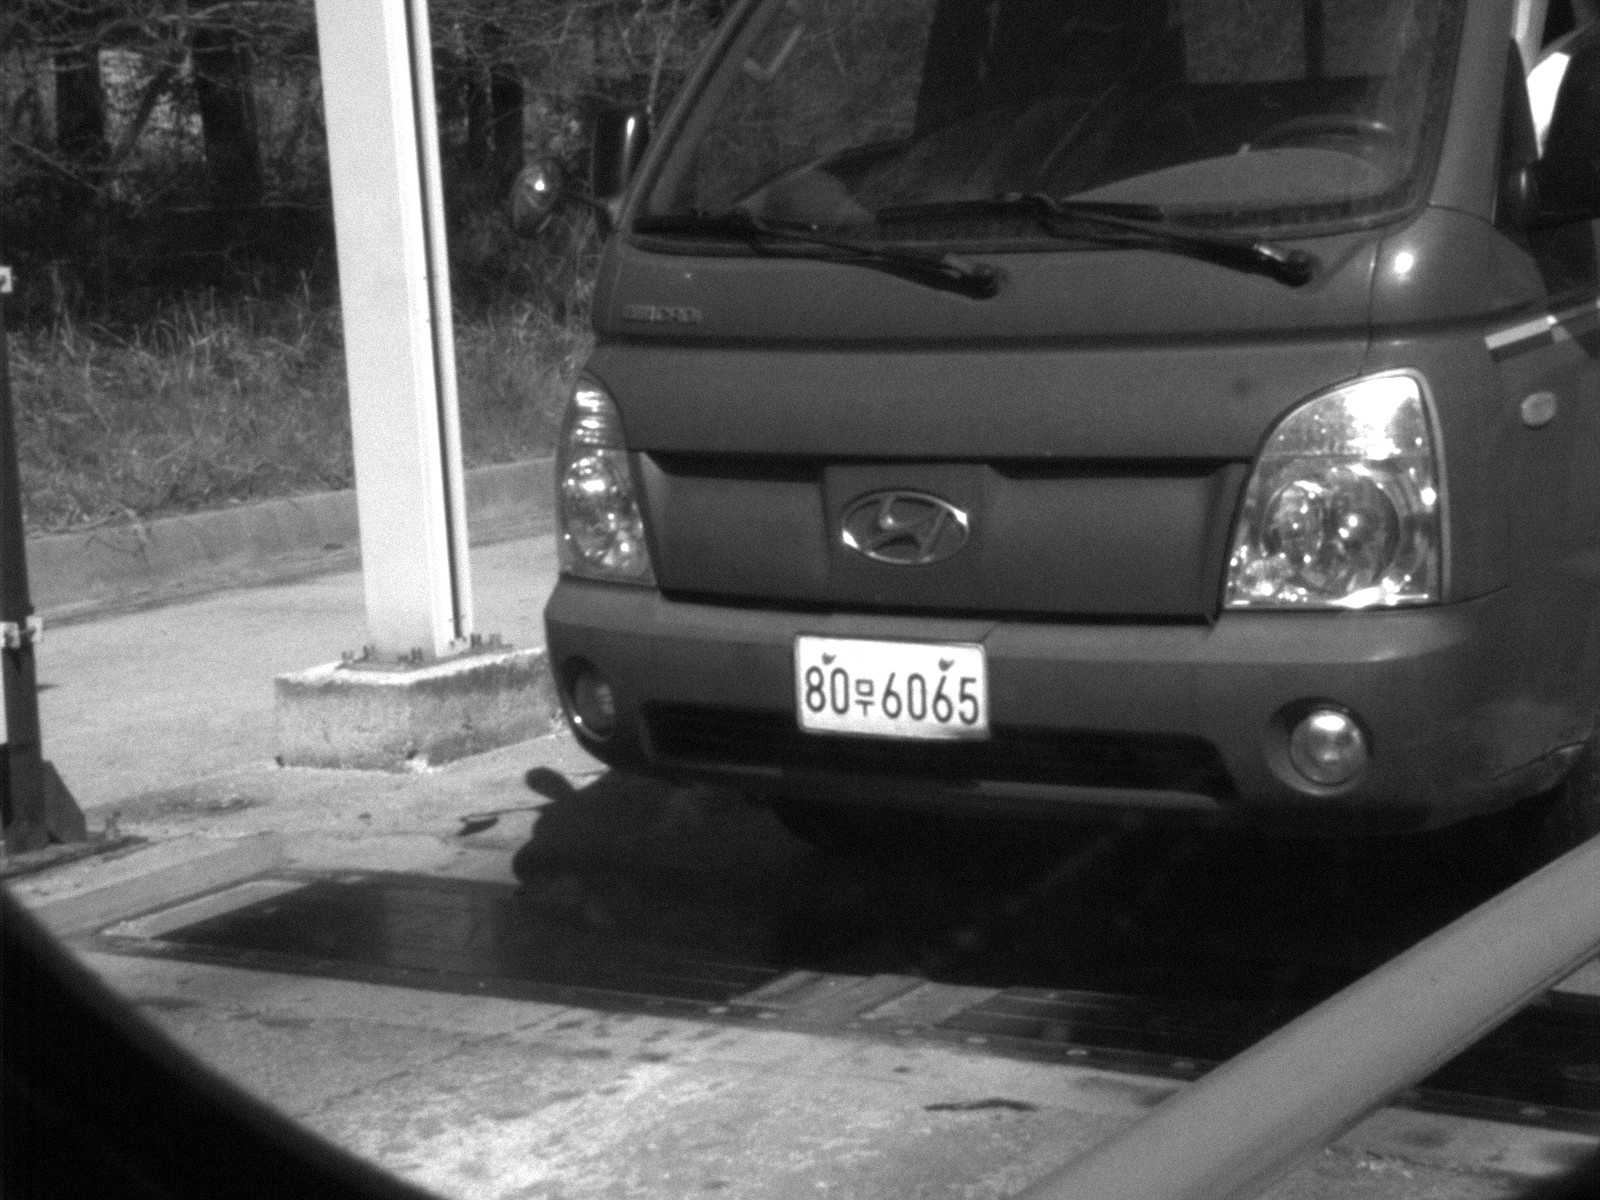car: (542, 1, 1600, 858)
plate: (789, 629, 998, 746)
